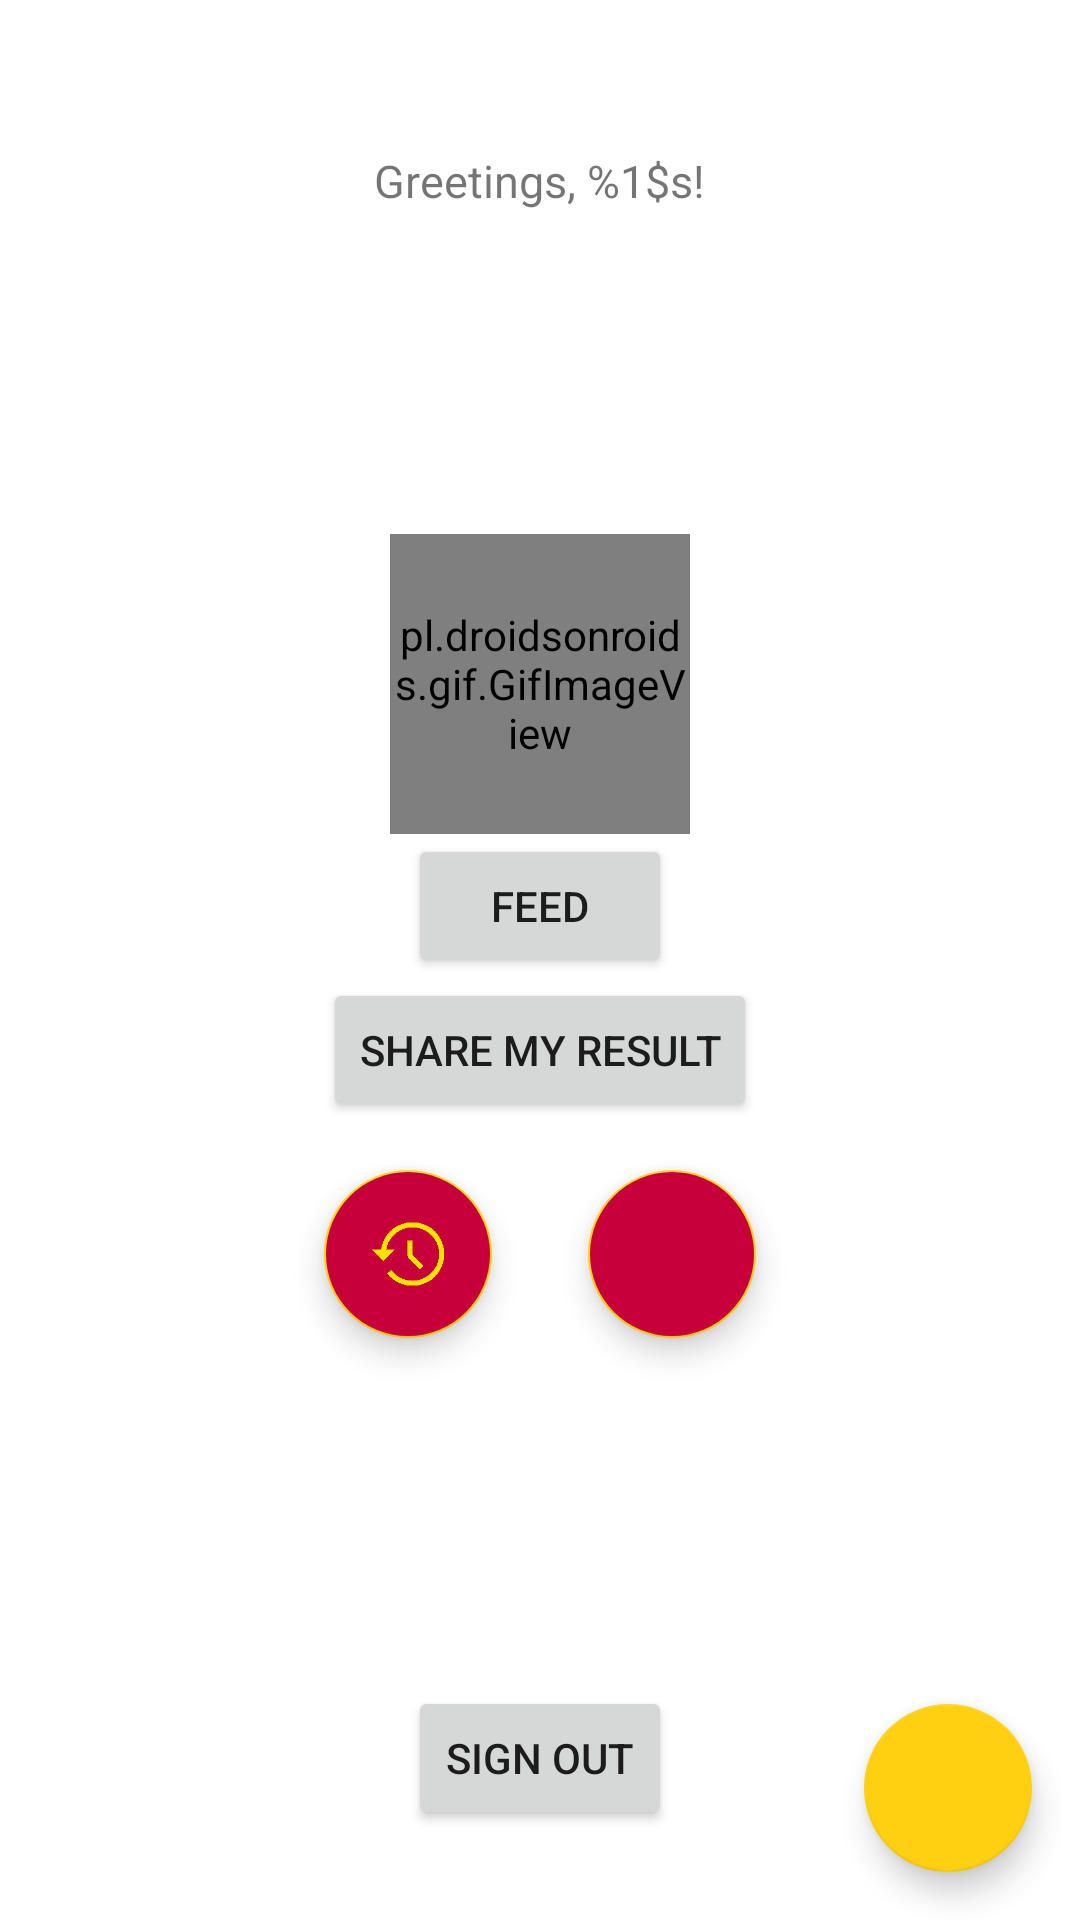

Named icons in this screenshot (1080px×1920px) and their centers, [x,y]:
history: [408,1254]
